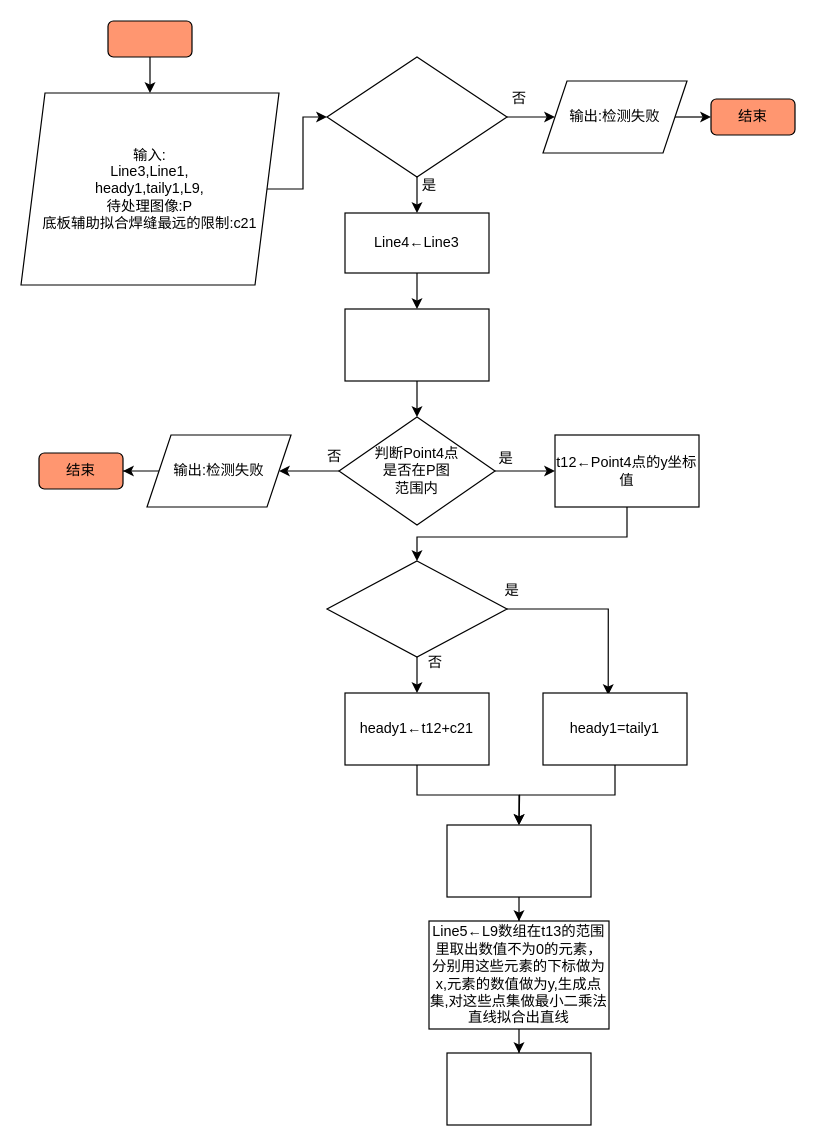
Image size: 816x1146. Some labels were removed from this diagram. The shapes that lost their labels are listed below. From the top down, each one's centre as x and y in pixels, then its label:
point (149, 38): 开始步骤4
point (416, 116): 判断Line3是否有 上次一检测的结果值
point (416, 344): Point4←求Line4和Line1的交点
point (416, 608): 判断t12+c21是否 大于taily1
point (518, 860): t13←大于等于heady1小于等于taily1的范围
point (518, 1088): Point4←求Line4和Line5的交点
